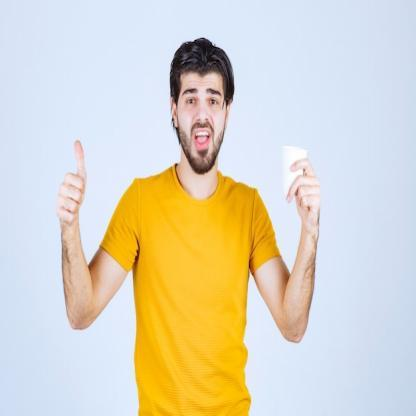thumb_up: (53, 134, 92, 228)
